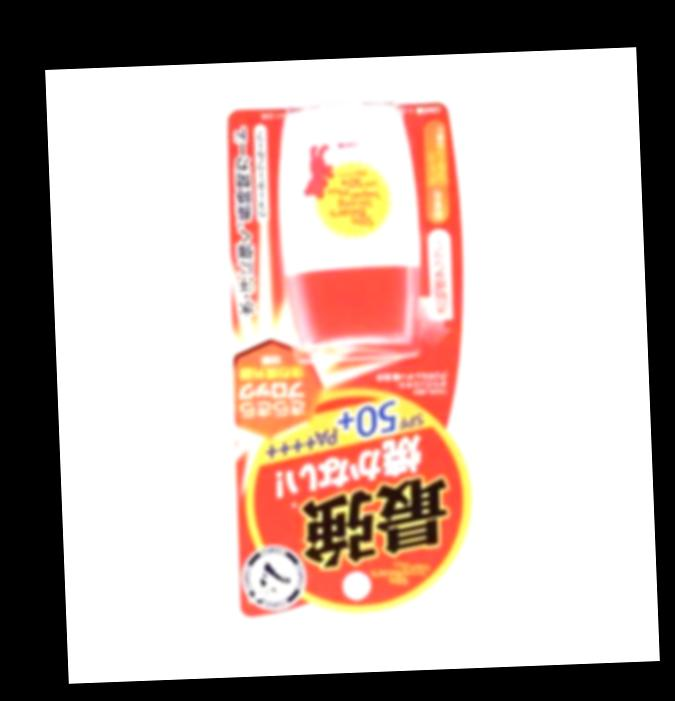cosmetic: (274, 95, 422, 349)
